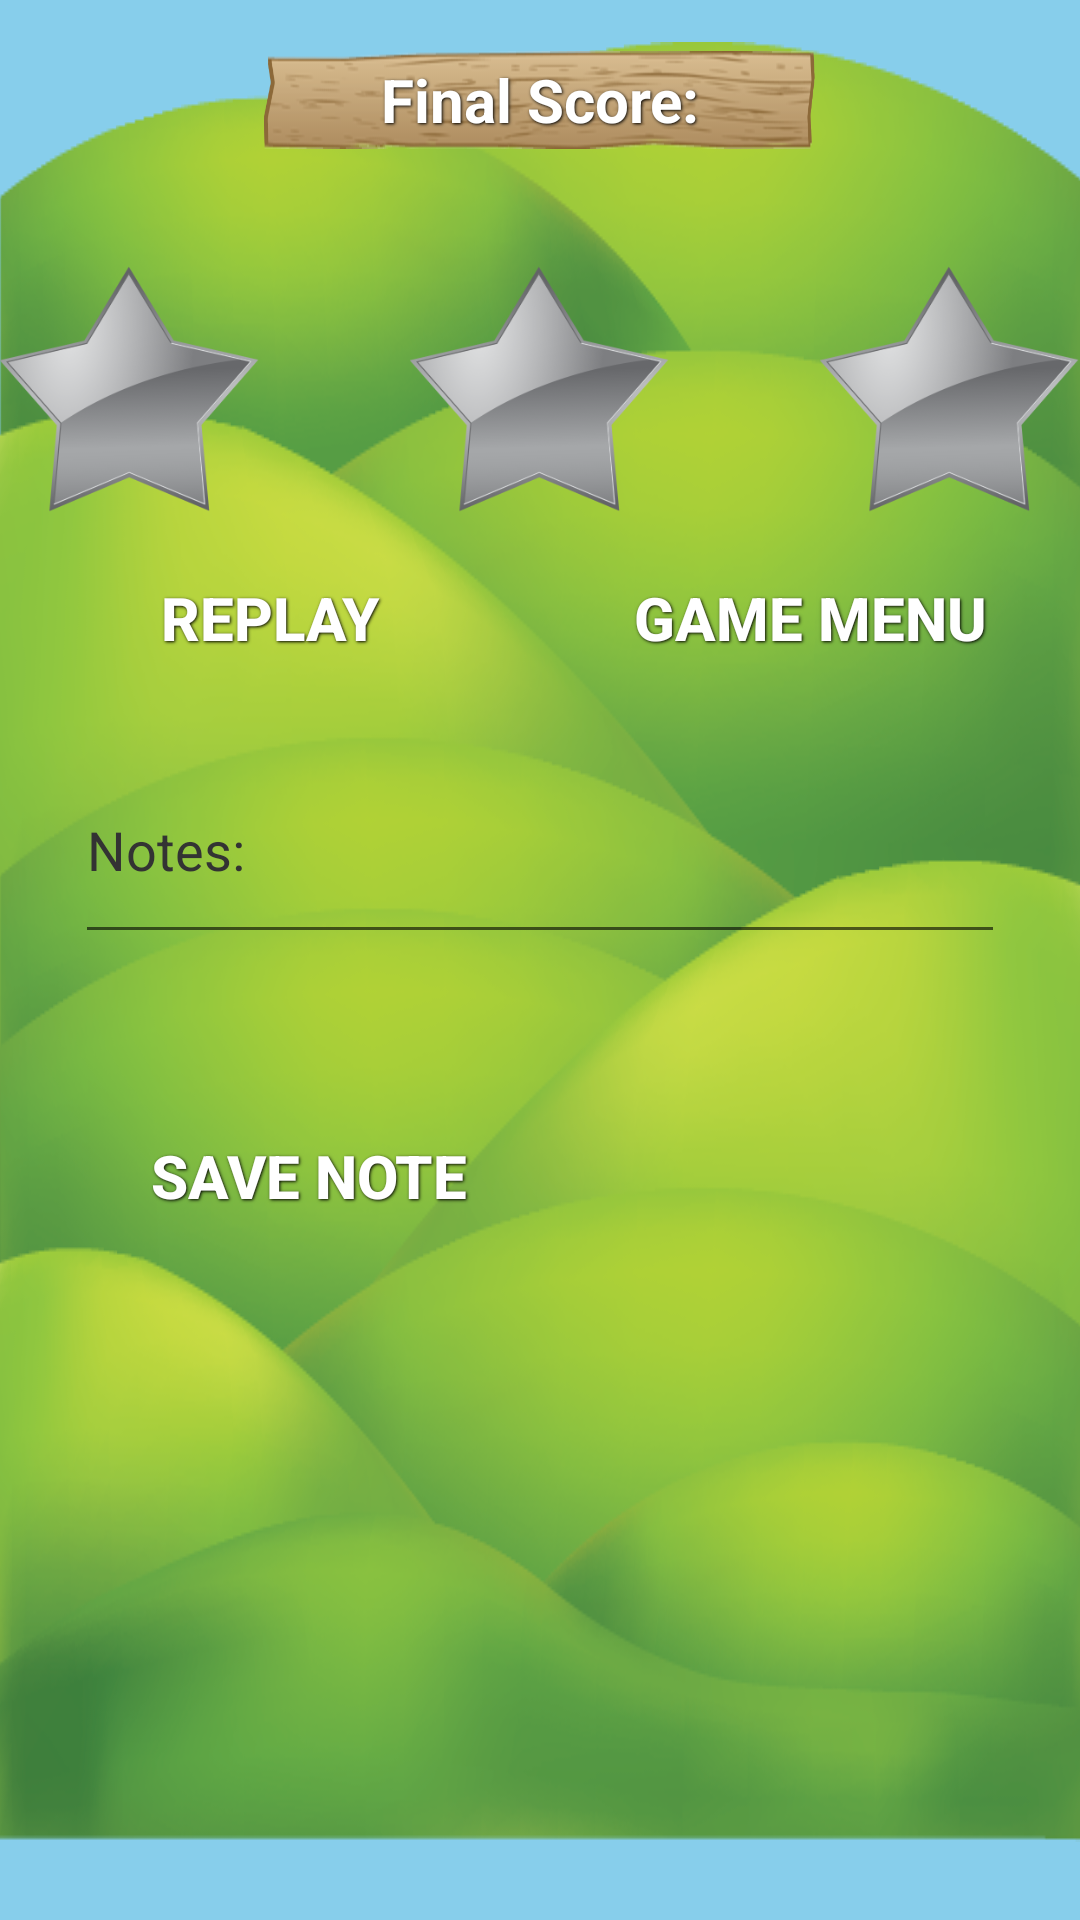

Icons on this 1080px×1920px Android screen, each with the point to tap as (x=x, y=y):
star: (x=130, y=396), (x=540, y=396), (x=950, y=396)
